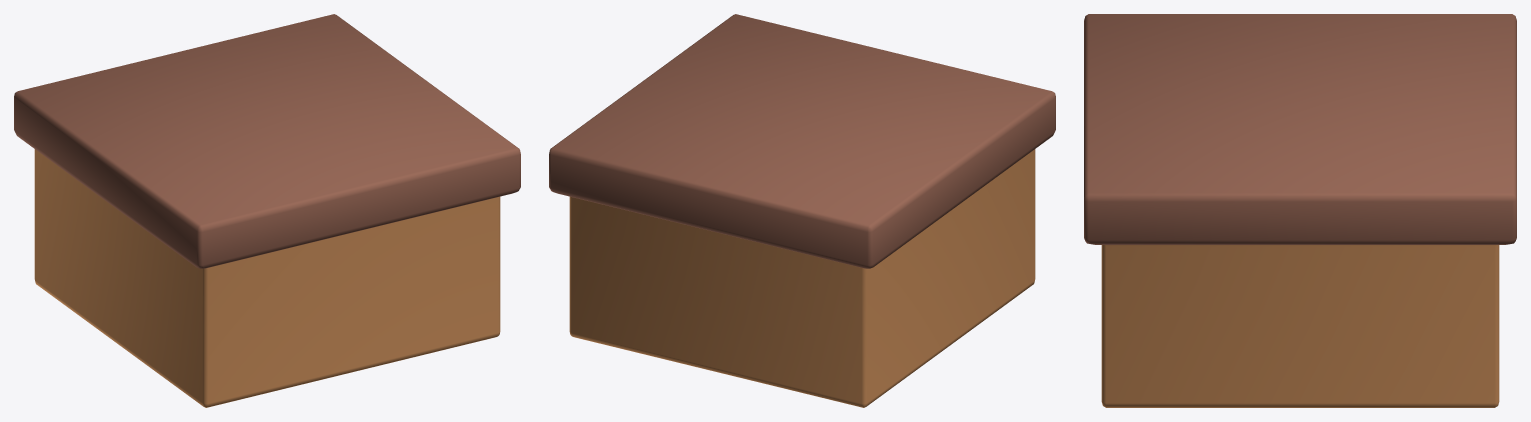
The model's file is MDL_Env_CounterSmall.fbx.
3 renders of one model, left to right at view 1: azimuth 30°, elevation 25°; view 2: azimuth 150°, elevation 25°; view 3: azimuth 270°, elevation 25°, orthographic. The views are drawn at different scales.
Visible parts, largest first — view 1: mesh_countersmall; view 2: mesh_countersmall; view 3: mesh_countersmall.
Part boxes in pixels (left/top/right/bottom): mesh_countersmall: left=14, top=14, right=520, bottom=407; mesh_countersmall: left=549, top=14, right=1055, bottom=407; mesh_countersmall: left=1084, top=14, right=1516, bottom=407.
Size of the model in its own units: 100 by 56.67 by 100.
1 material, 1 textured.
